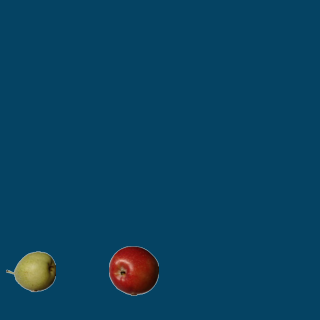Apple Braeburn: (108, 245, 158, 295)
Pear: (5, 246, 55, 296)
